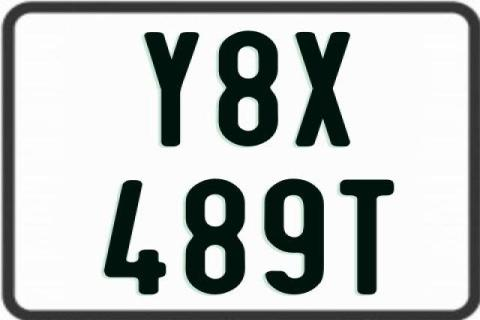0: (216, 29, 278, 147), (183, 178, 245, 296), (264, 178, 326, 294), (104, 179, 166, 293)
T: (339, 178, 396, 296)
X: (293, 30, 348, 148)
Y: (141, 31, 199, 148)
